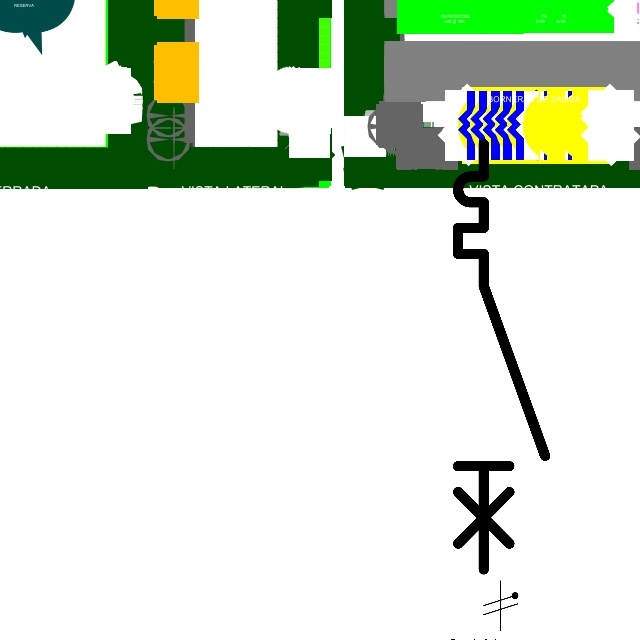interruptor_termomagnetico: (447, 133, 556, 580)
